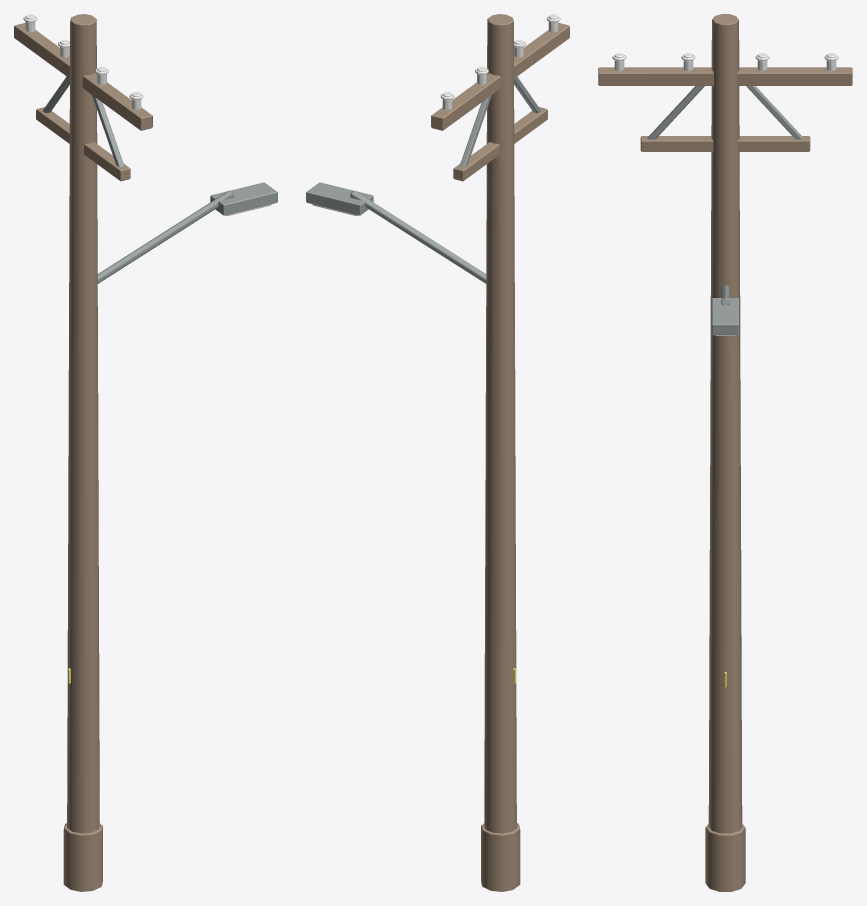
The model's file is power_pole_lamp.glb.
The picture shows the model from 3 angles, left to right: view 1: azimuth 30°, elevation 25°; view 2: azimuth 150°, elevation 25°; view 3: azimuth 270°, elevation 25°; orthographic projection.
Parts seen in each view (by area): view 1: pole; view 2: pole; view 3: pole.
Boxes of the visible parts, left/top/right/bottom form: pole: left=14, top=14, right=277, bottom=891; pole: left=306, top=14, right=569, bottom=891; pole: left=598, top=14, right=852, bottom=891.
Size of the model in its own units: 2.23 by 9 by 2.4.
